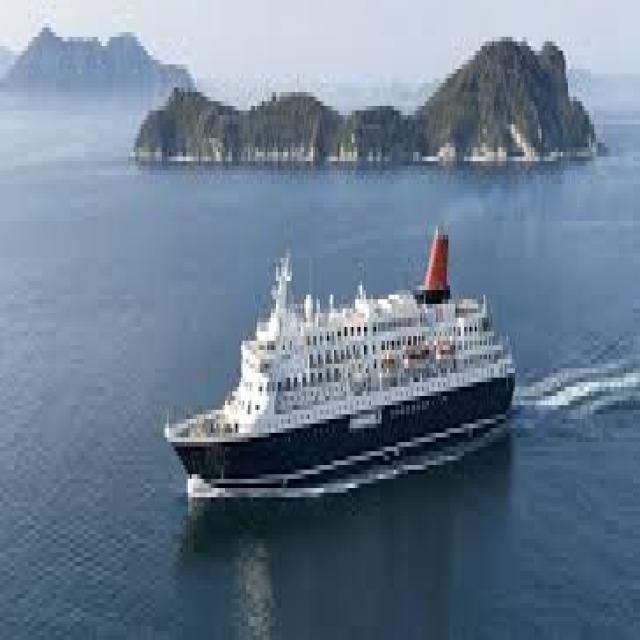PassengerShip: (101, 88, 596, 578)
